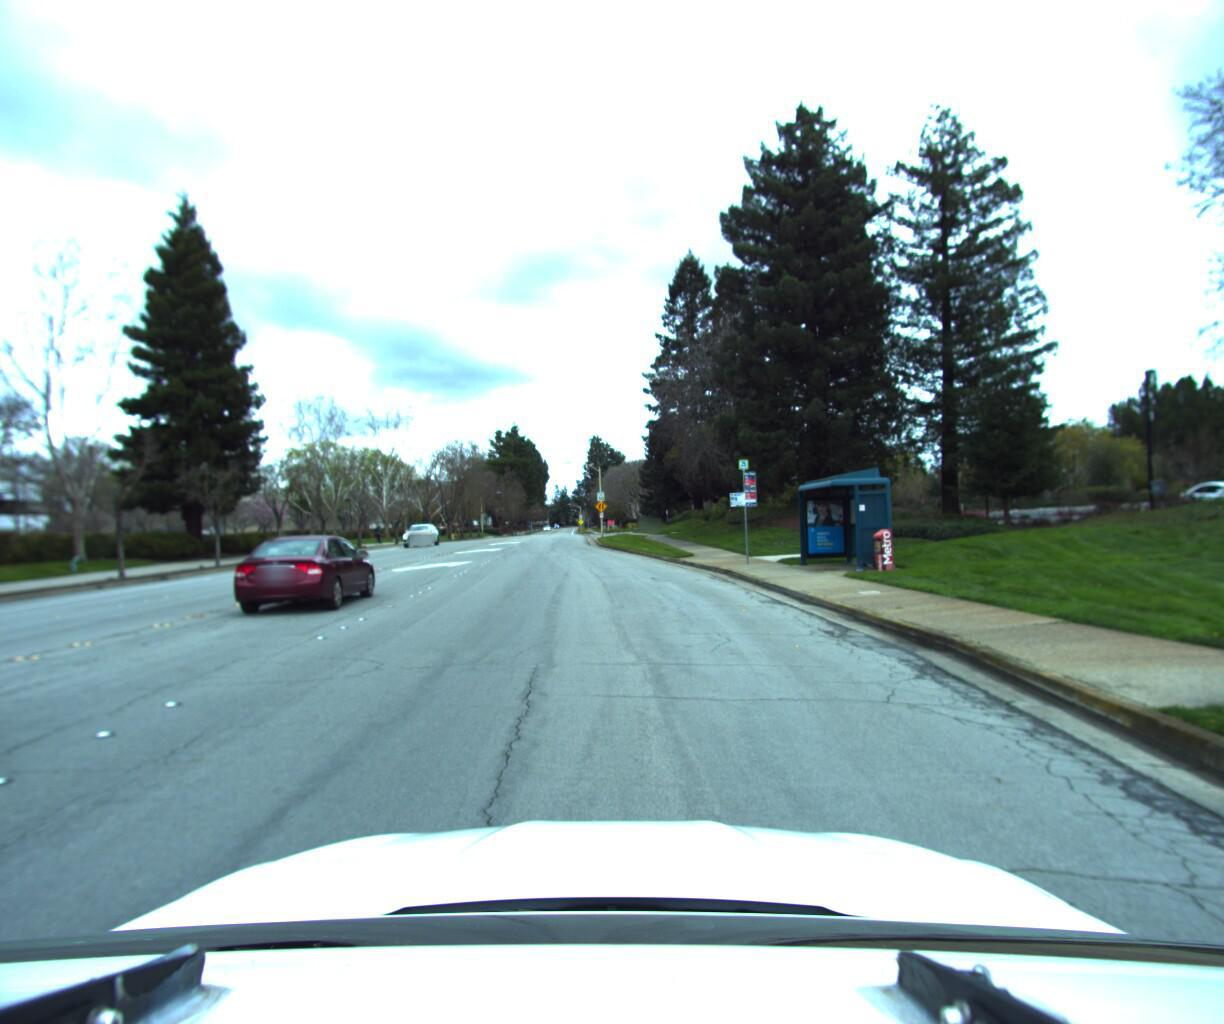car: (230, 533, 381, 621), (403, 523, 444, 549)
